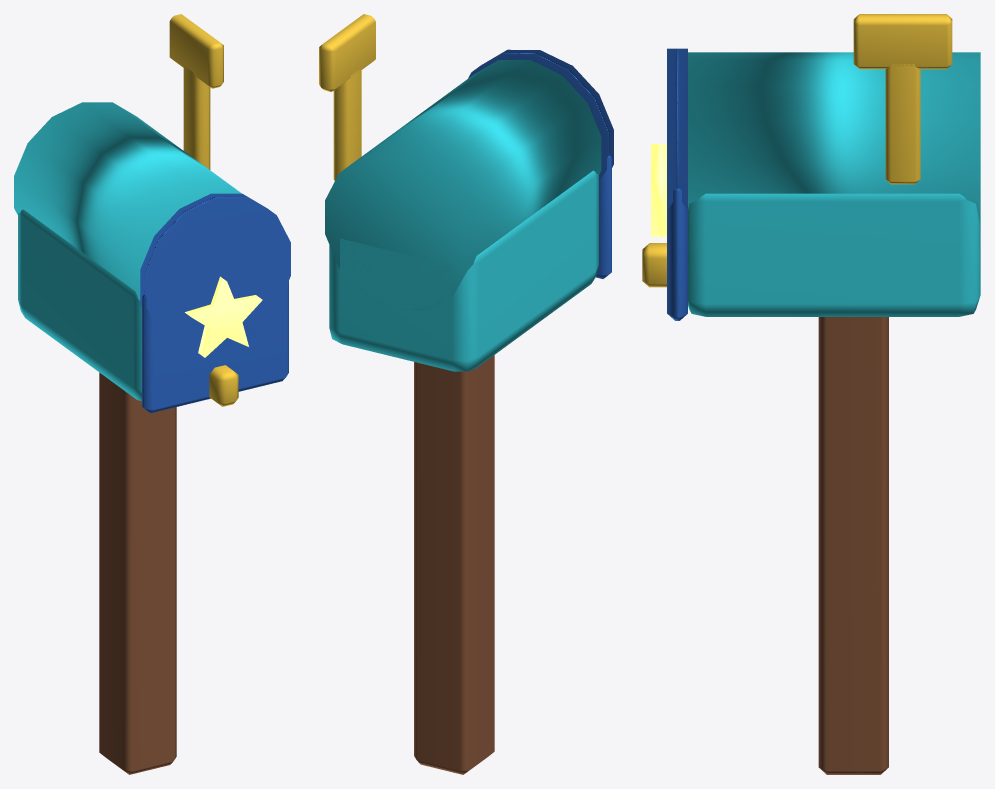
File: mailbox.glb
3 views of the same model, side by side, from view 1: azimuth 30°, elevation 25°; view 2: azimuth 150°, elevation 25°; view 3: azimuth 270°, elevation 25° (orthographic). The views are drawn at different scales.
Visible parts, largest first — view 1: Mailbox.001; view 2: Mailbox.001; view 3: Mailbox.001.
Boxes of the visible parts, left/top/right/bottom form: Mailbox.001: left=14, top=14, right=290, bottom=774; Mailbox.001: left=319, top=14, right=613, bottom=774; Mailbox.001: left=642, top=14, right=980, bottom=774.
Size of the model in its own units: 0.3 by 1.24 by 0.48.
